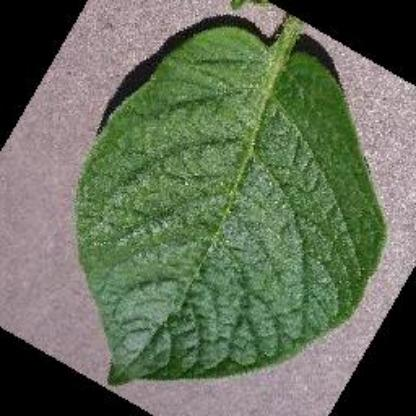Healthy-plant: (69, 13, 394, 395)
